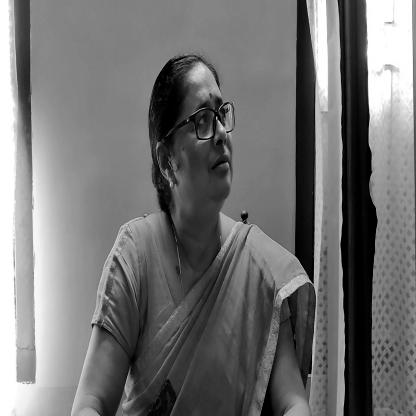Distracted: (143, 61, 254, 213)
